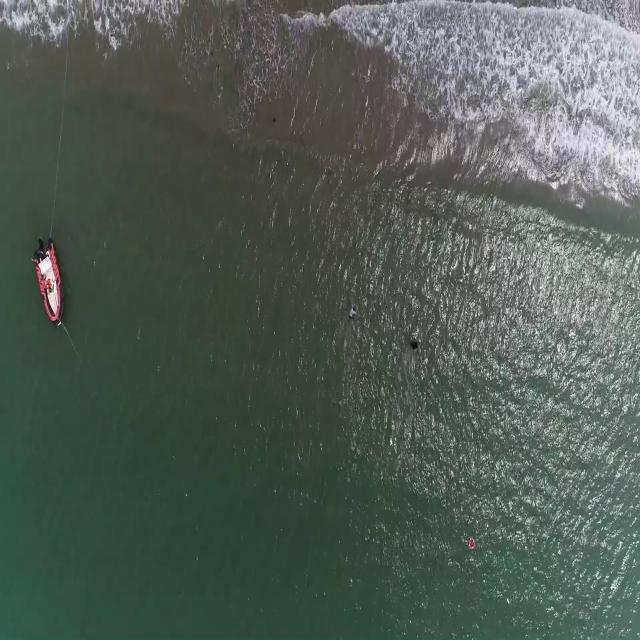boat: (33, 237, 63, 325)
life_buoy: (468, 535, 476, 550)
person: (349, 300, 362, 320), (410, 334, 419, 354)
